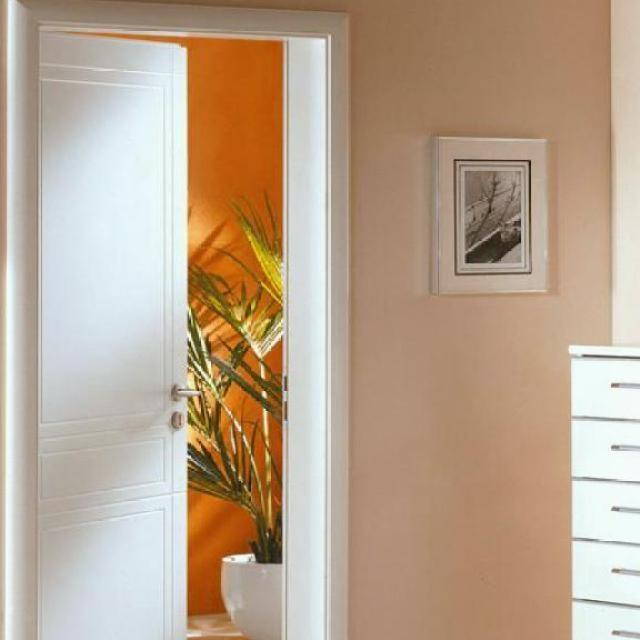door: (35, 28, 191, 639)
